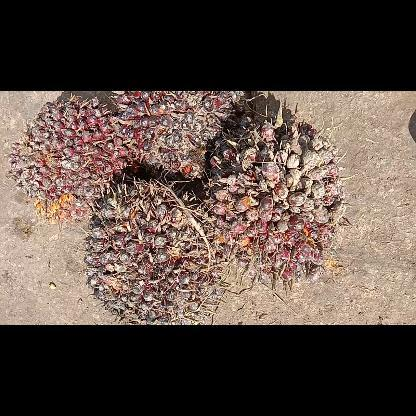Kurang masak: (209, 96, 347, 292), (84, 178, 223, 324), (7, 92, 138, 224), (105, 91, 249, 181)
